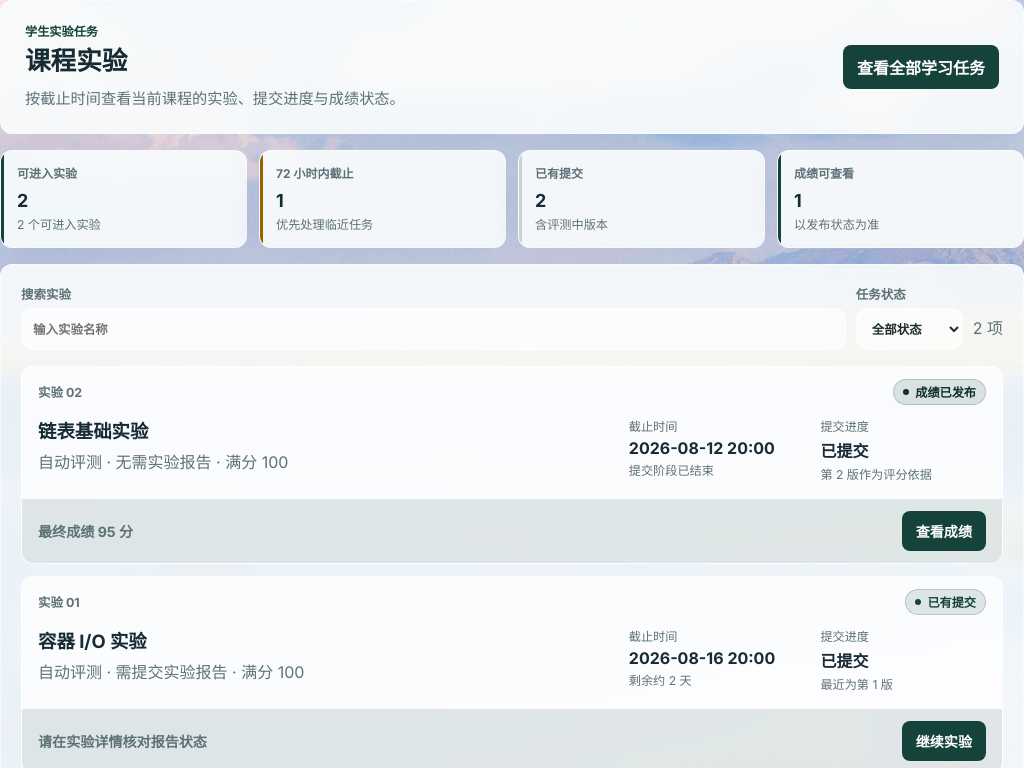
it: LabStudentListView visual task-list contract › adapts domain data into searchable task cards without exposing raw enums or role selectors
Type "链表" into the search field with test id "lab-keyword-filter" at (433, 329), box [21,308,846,350]
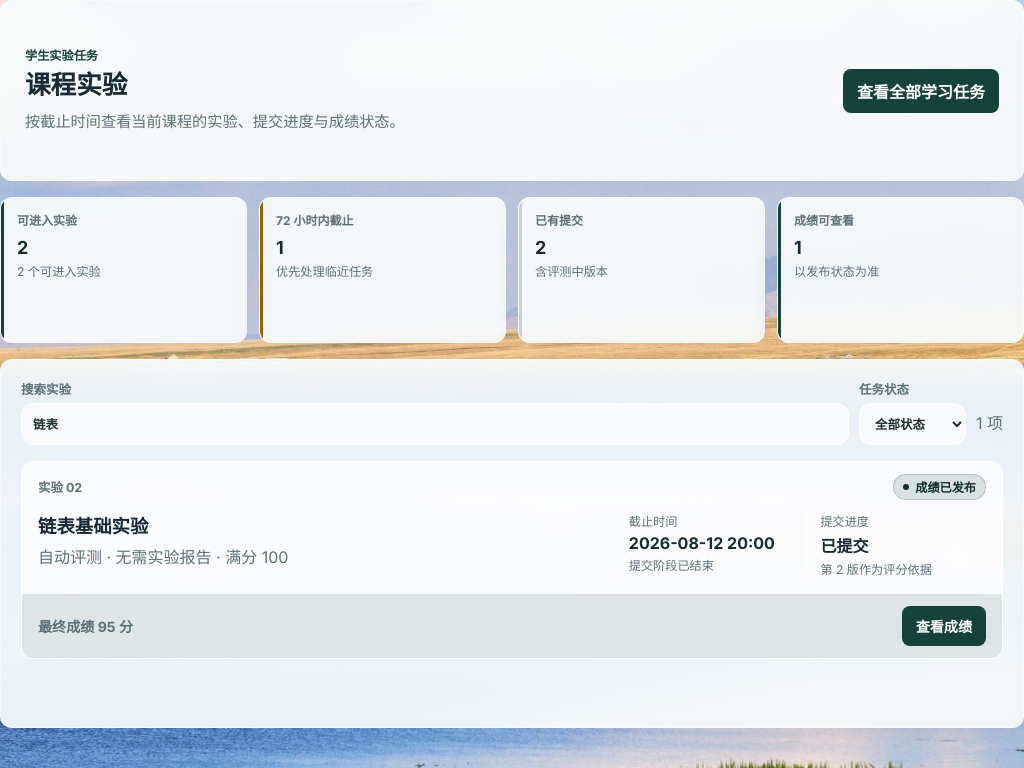
Check: the text "链表基础实验" is shown, box [38,516,148,538]
Check: the text "容器 I/O 实验" is gone
